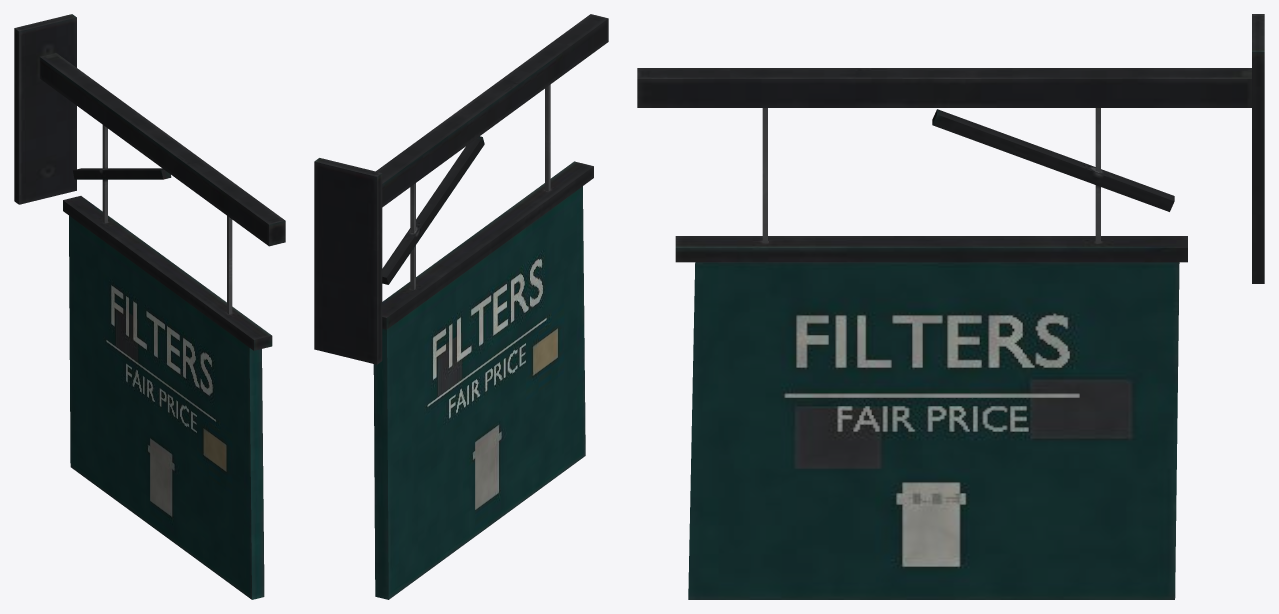
Rendered from shop_sign_filters.glb.
3 views of the same model, side by side, from view 1: azimuth 30°, elevation 25°; view 2: azimuth 150°, elevation 25°; view 3: azimuth 270°, elevation 25° (orthographic). The views are drawn at different scales.
Parts seen in each view (by area): view 1: shop_sign_filters; view 2: shop_sign_filters; view 3: shop_sign_filters.
Part boxes in pixels (x1,y1,x2,y2): shop_sign_filters: [14, 14, 285, 599]; shop_sign_filters: [314, 14, 608, 599]; shop_sign_filters: [637, 14, 1264, 599].
Bounding box in the file's own units: 0.14 × 0.97 × 0.98.
Materials: 1 (1 with a texture image).
